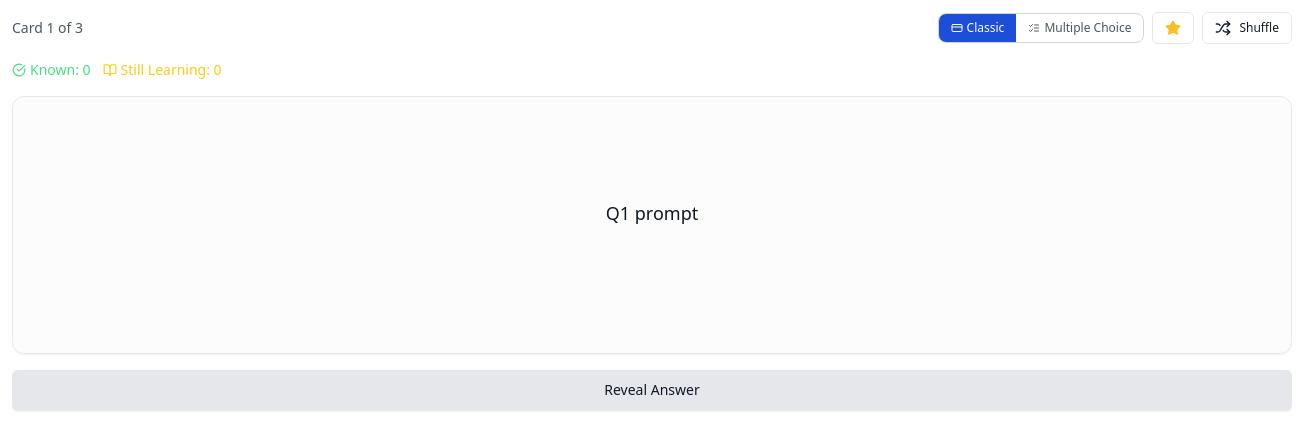
Scenario: B1: FlashcardViewer in a filtered view › un-starring the first card shows the next card, not the one after it
Click the button named "Unstar this question": (1174, 28) [1152,12,1194,44]
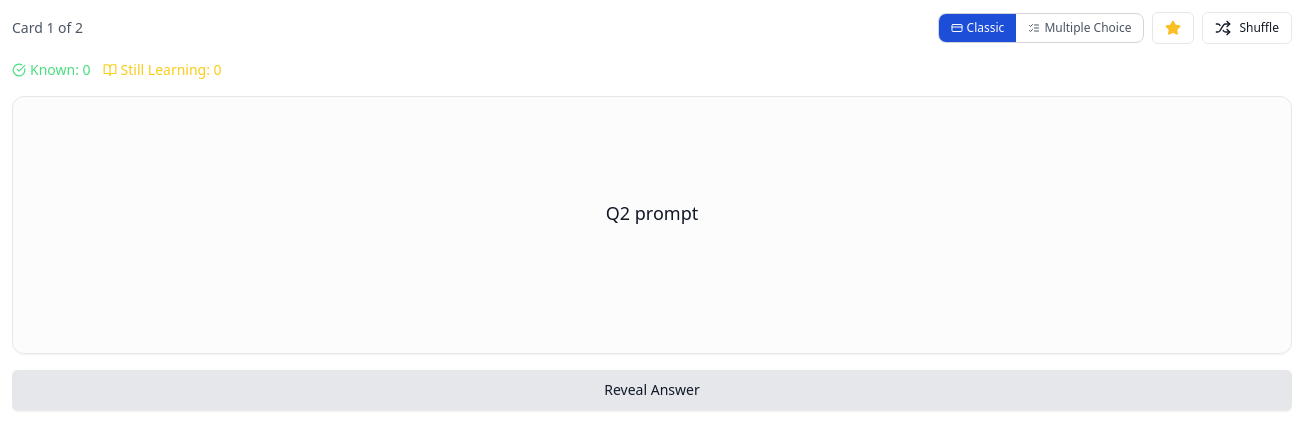
Check: the text "Q2 prompt" is shown, box [606,199,698,227]
Check: the text "Card 1 of 2" is shown, box [12,18,83,38]
